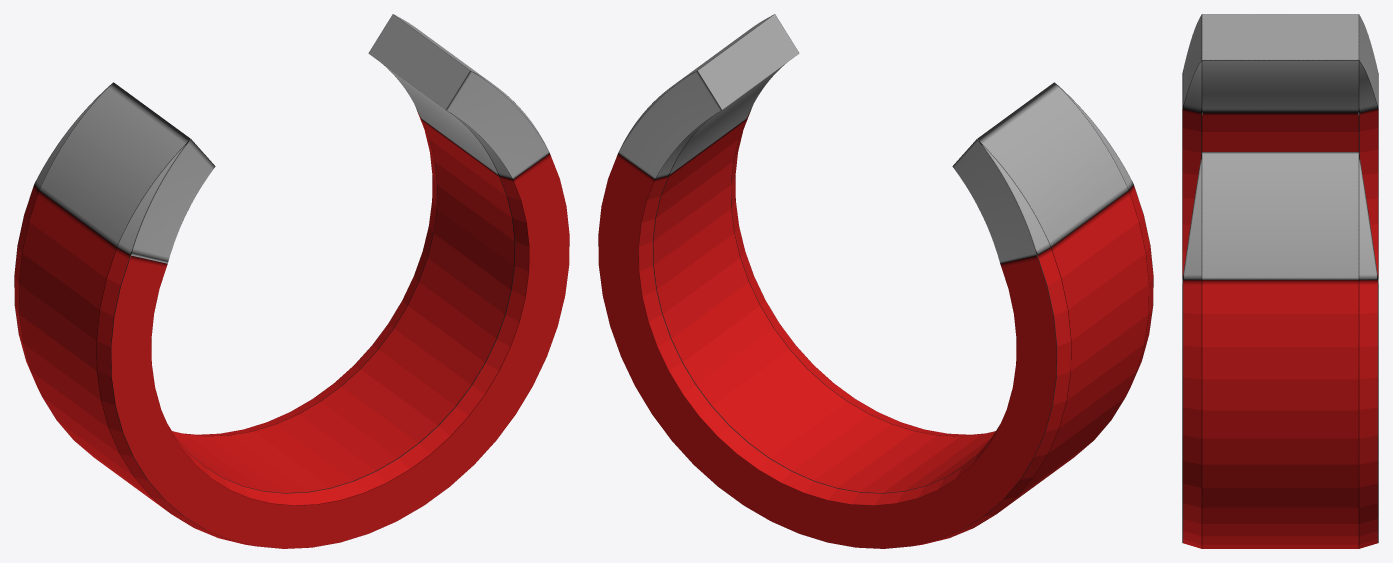
The model's file is Iman.fbx.
3 renders of one model, left to right at view 1: azimuth 30°, elevation 25°; view 2: azimuth 150°, elevation 25°; view 3: azimuth 270°, elevation 25°, orthographic.
Parts seen in each view (by area): view 1: Cubo; view 2: Cubo; view 3: Cubo.
Part boxes in pixels (box(x1,y1,x2,y2)): Cubo: box(14, 14, 569, 548); Cubo: box(598, 14, 1153, 548); Cubo: box(1182, 14, 1378, 548).
Size of the model in its own units: 558 by 496 by 200.
Materials: 1 (1 with a texture image).
